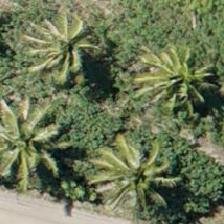coconut_tree: (24, 0, 114, 90), (88, 127, 178, 217), (137, 30, 223, 120), (0, 100, 67, 190)
